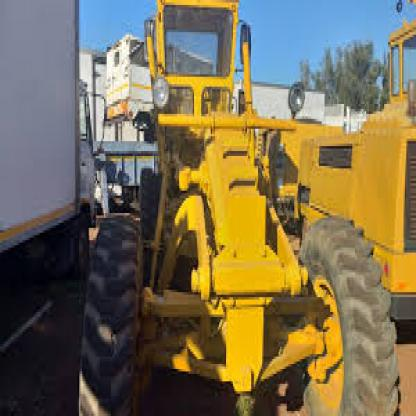bull_dozer/loader/grader: (69, 2, 401, 414)
